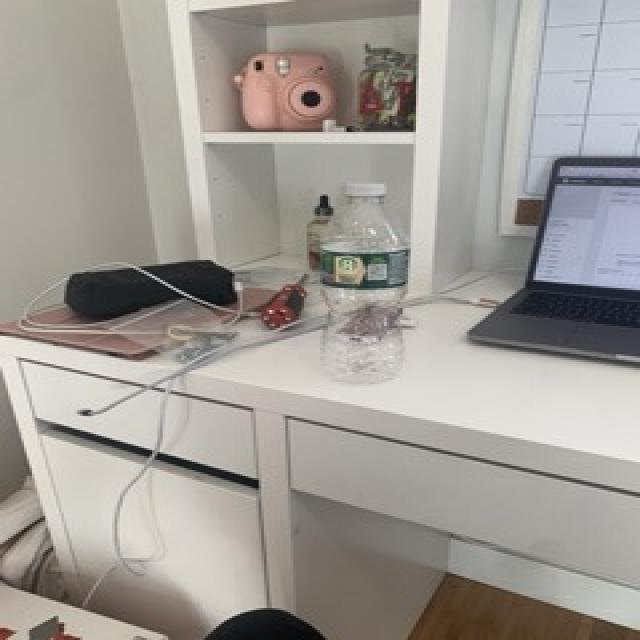water_bottle: (317, 177, 413, 386)
